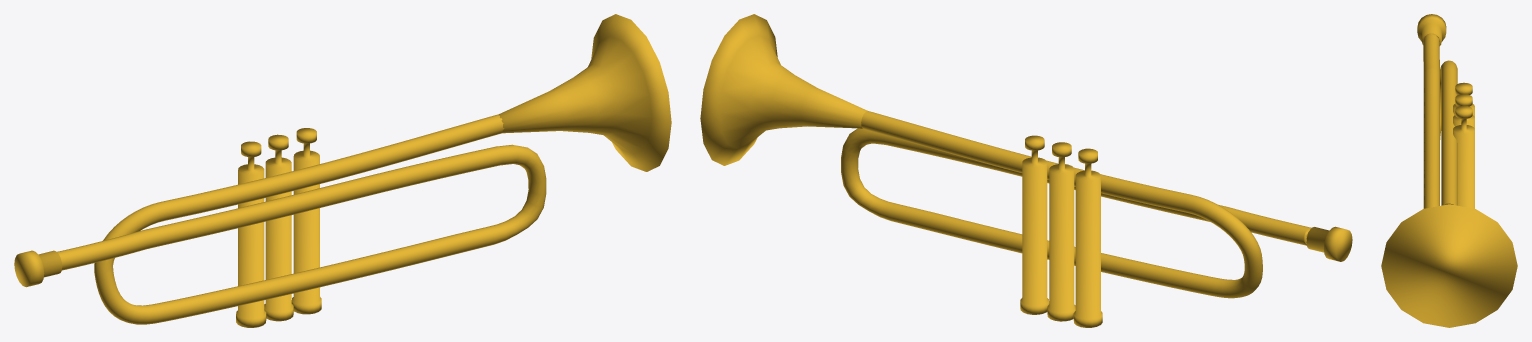
File: TrumpetModel.glb
3 views of the same model, side by side, from view 1: azimuth 30°, elevation 25°; view 2: azimuth 150°, elevation 25°; view 3: azimuth 270°, elevation 25° (orthographic). The views are drawn at different scales.
Visible parts, largest first — view 1: Pipe, Cone, Cylinder.002, Cylinder; view 2: Pipe, Cylinder.002, Cone, Cylinder; view 3: Cone, Pipe, Cylinder.002, Cylinder.
Boxes of the visible parts, bbox=[...] form: Pipe: bbox=[57, 114, 546, 324]; Cone: bbox=[498, 14, 671, 171]; Cylinder.002: bbox=[236, 128, 321, 327]; Cylinder: bbox=[14, 250, 62, 287]; Pipe: bbox=[841, 111, 1311, 298]; Cylinder.002: bbox=[1020, 135, 1102, 327]; Cone: bbox=[700, 14, 868, 165]; Cylinder: bbox=[1306, 226, 1352, 261]; Cone: bbox=[1381, 203, 1517, 327]; Pipe: bbox=[1423, 33, 1457, 208]; Cylinder.002: bbox=[1453, 82, 1474, 208]; Cylinder: bbox=[1417, 14, 1446, 45].
Bounding box in the file's own units: 4.42 × 1.48 × 1.
Materials: 1 (1 with a texture image).
